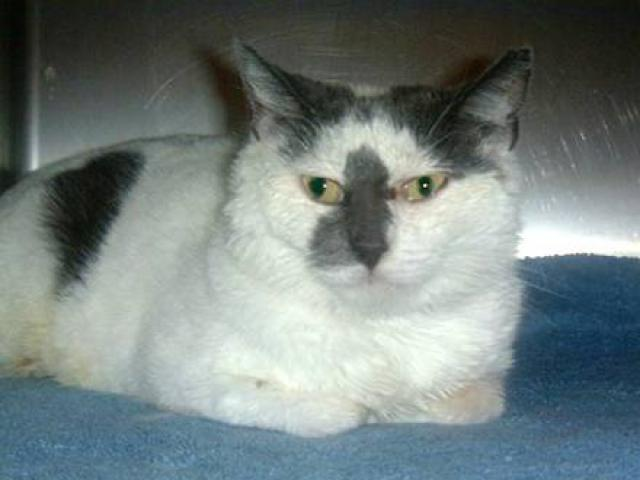cat: (13, 33, 540, 444)
